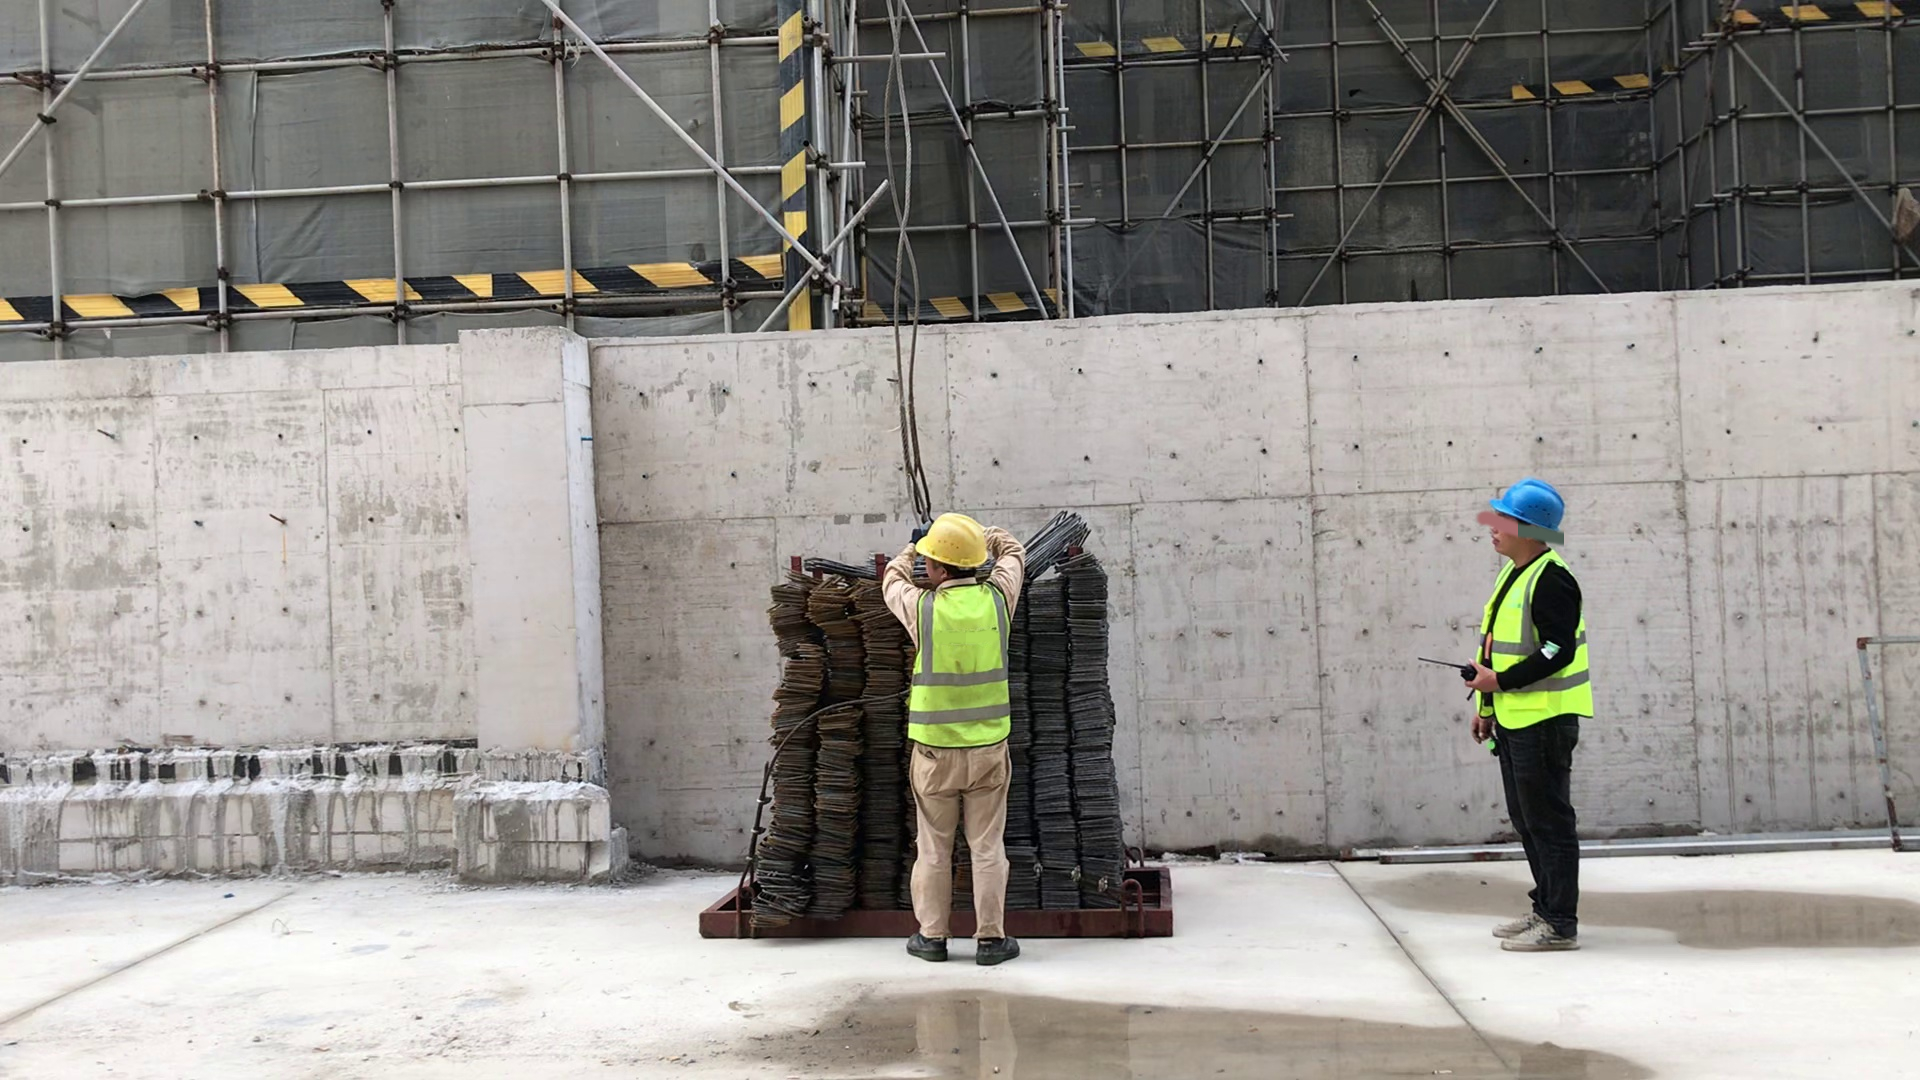helmet: (1486, 472, 1584, 532), (916, 515, 1000, 580)
person: (877, 505, 1027, 959), (1455, 460, 1587, 961)
vest: (915, 588, 1023, 736), (1477, 575, 1586, 709)
